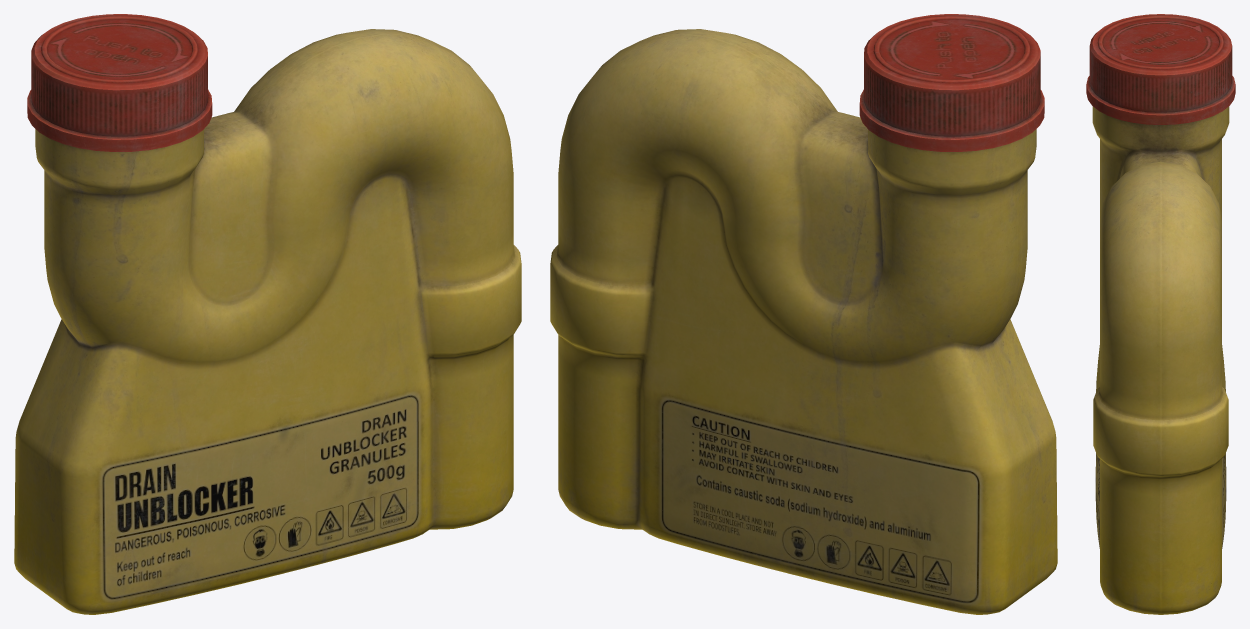
The picture shows the model from 3 angles, left to right: view 1: azimuth 30°, elevation 25°; view 2: azimuth 150°, elevation 25°; view 3: azimuth 270°, elevation 25°; orthographic projection. The views are drawn at different scales.
Parts seen in each view (by area): view 1: drain_cleaner; view 2: drain_cleaner; view 3: drain_cleaner.
Part boxes in pixels (<box>): drain_cleaner: <box>14,14,521,614</box>; drain_cleaner: <box>550,14,1057,614</box>; drain_cleaner: <box>1086,14,1235,614</box>.
Bounding box in the file's own units: 0.1654 × 0.1786 × 0.0563.
Materials: 1 (1 with a texture image).
